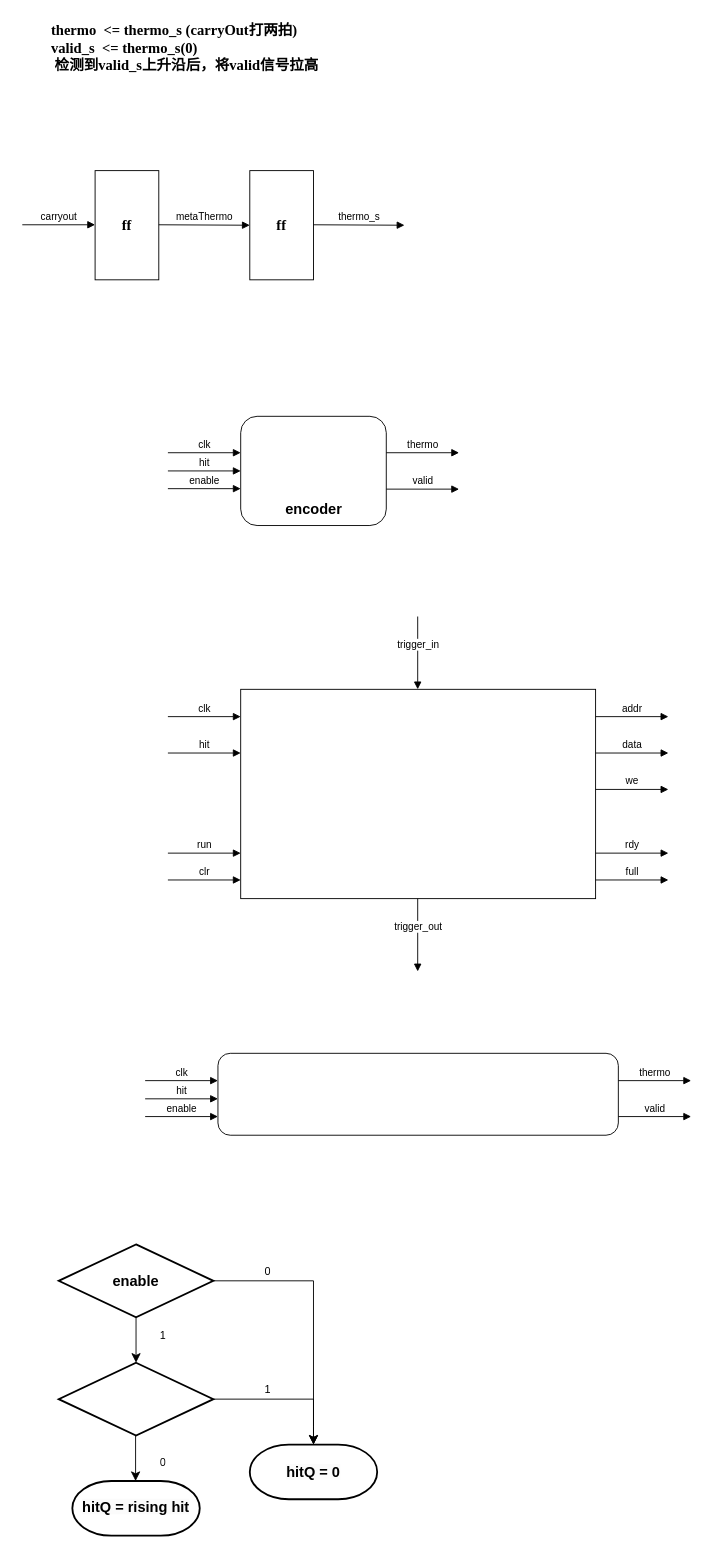
Some shapes in this 714 by 1552 pixel diagram are drawn without their labels. Each missing label, with the centre of its shape:
clear: point (135, 1398)
Delay_line: point (417, 1093)
TDCchannel: point (418, 793)
